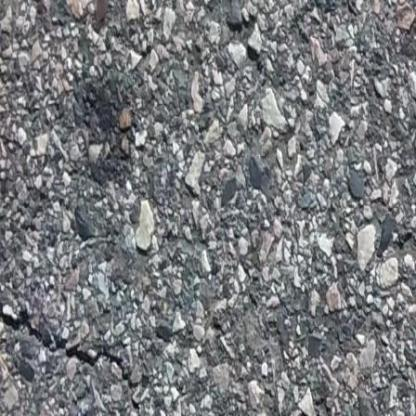Cracks: (2, 292, 165, 409), (202, 0, 293, 83)
